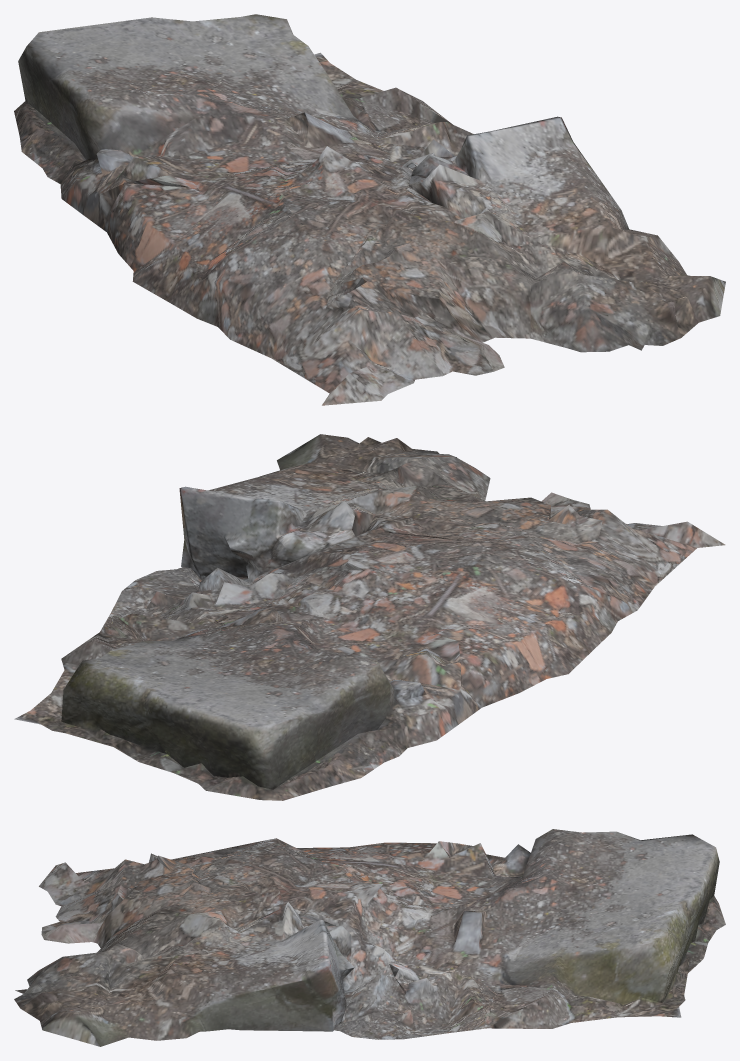
The model's file is SM_Stairs_01_17.fbx.
3 views of the same model, one above another, from view 1: azimuth 30°, elevation 25°; view 2: azimuth 150°, elevation 25°; view 3: azimuth 270°, elevation 25° (orthographic). The views are drawn at different scales.
Parts seen in each view (by area): view 1: sm_Stairs_01_17_LOD0; view 2: sm_Stairs_01_17_LOD0; view 3: sm_Stairs_01_17_LOD0.
Part boxes in pixels (left/top/right/bottom): sm_Stairs_01_17_LOD0: left=14, top=14, right=725, bottom=405; sm_Stairs_01_17_LOD0: left=14, top=434, right=725, bottom=800; sm_Stairs_01_17_LOD0: left=14, top=829, right=725, bottom=1046.
Size of the model in its own units: 194 by 121 by 23.48.
